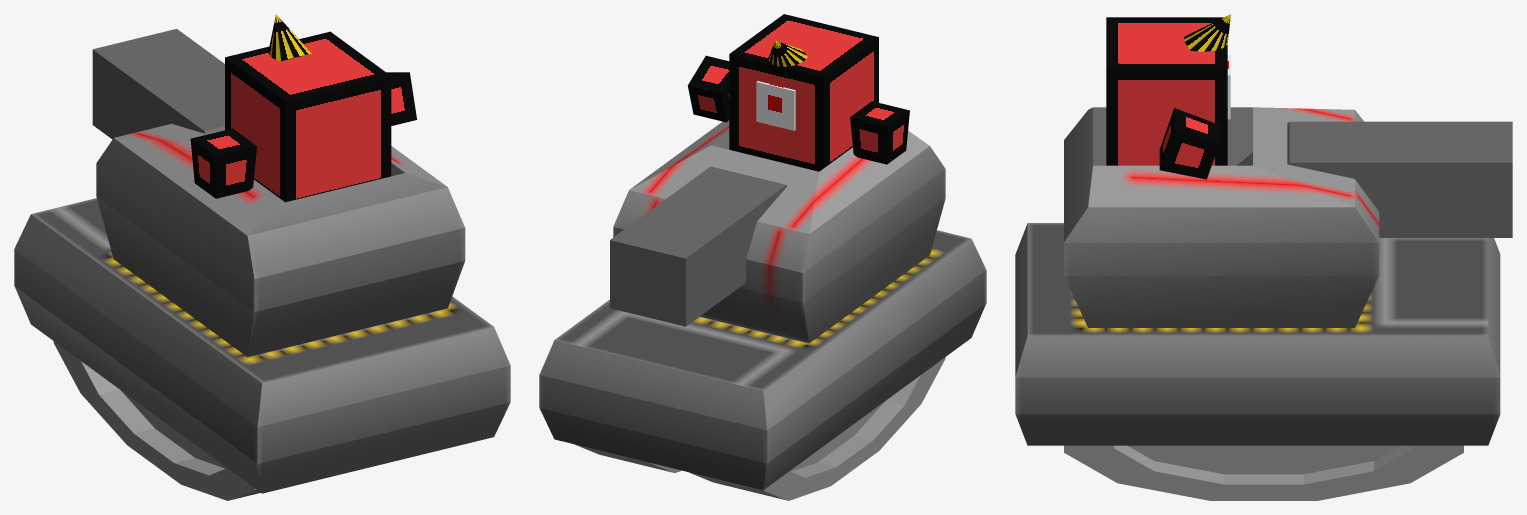
Rendered from sensya.fbx.
3 renders of one model, left to right at view 1: azimuth 30°, elevation 25°; view 2: azimuth 150°, elevation 25°; view 3: azimuth 270°, elevation 25°, orthographic. The views are drawn at different scales.
Parts seen in each view (by area): view 1: cuboid_8, cuboid_6, cuboid_2, cuboid_7, cylinder, cuboid_5, cuboid_4, cone; view 2: cuboid_8, cuboid_6, cuboid_7, cuboid_2, cylinder, cuboid_5, cuboid_4, cuboid_3, cone; view 3: cuboid_8, cuboid_6, cuboid_7, cylinder_1, cuboid_2, cuboid_4, cone.
Boxes of the visible parts, x1,y1,x2,y2 form: cuboid_8: (14,198,510,493); cuboid_6: (96,124,465,357); cuboid_2: (225,31,391,202); cuboid_7: (92,29,224,139); cylinder: (53,341,260,500); cuboid_5: (190,128,256,198); cuboid_4: (386,72,416,125); cone: (268,14,311,61); cuboid_8: (539,230,986,490); cuboid_6: (613,120,945,343); cuboid_7: (610,166,787,326); cuboid_2: (729,14,878,171); cylinder: (689,357,945,500); cuboid_5: (850,101,909,164); cuboid_4: (687,55,729,122); cuboid_3: (756,81,795,130); cone: (768,40,807,66); cuboid_8: (1015,223,1500,445); cuboid_6: (1064,107,1379,327); cuboid_7: (1237,121,1512,237); cylinder_1: (1064,445,1463,500); cuboid_2: (1106,17,1227,165); cuboid_4: (1159,108,1219,179); cone: (1184,14,1230,51).
Size of the model in its own units: 150 by 248 by 256.
